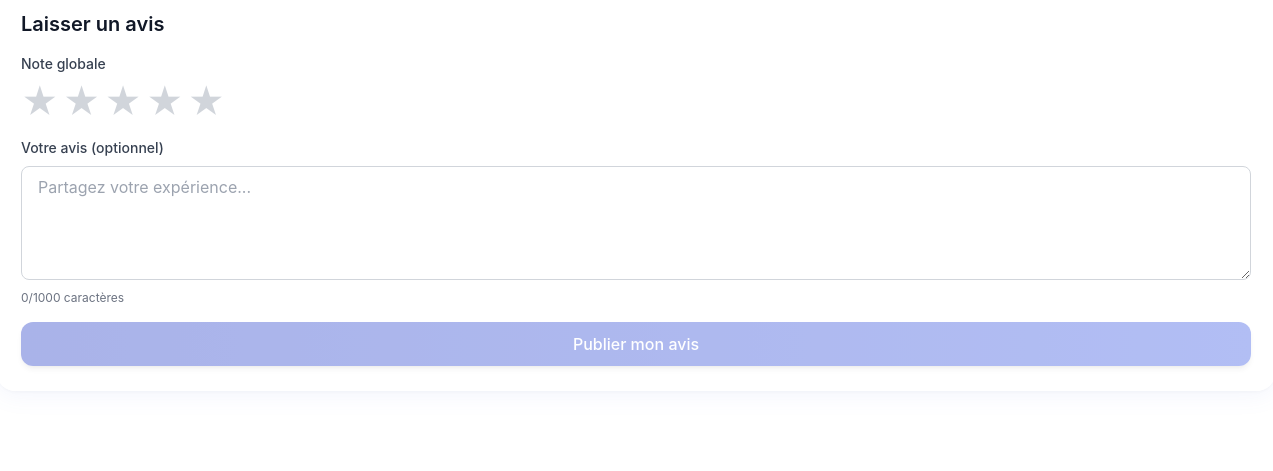
Test: ReviewForm › shows an error message when the submission fails
Click the 3rd button "★" at coordinates (123, 102), box [104, 82, 142, 122]
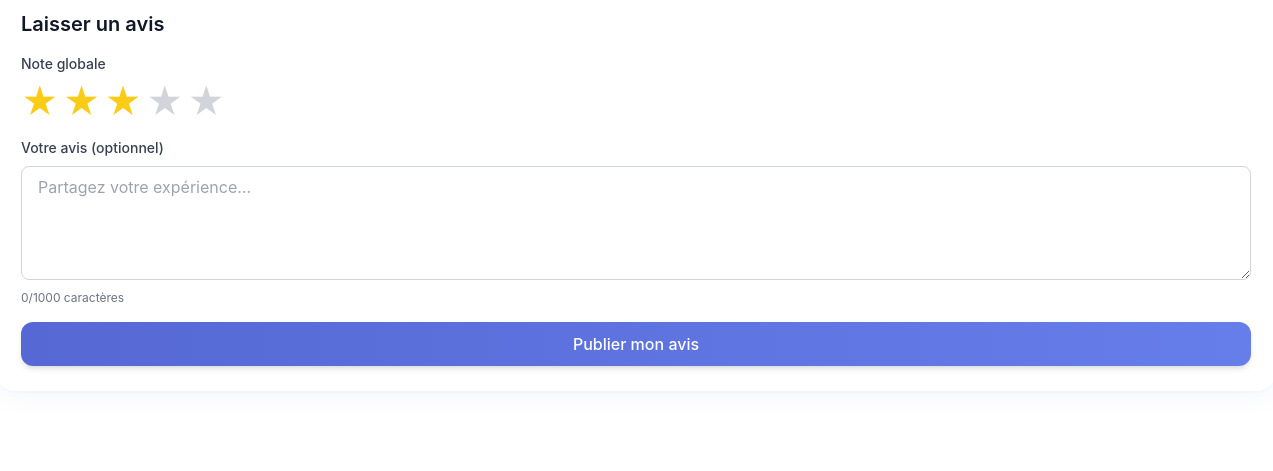
Click the button "Publier mon avis" at coordinates (636, 344), box [21, 322, 1251, 366]
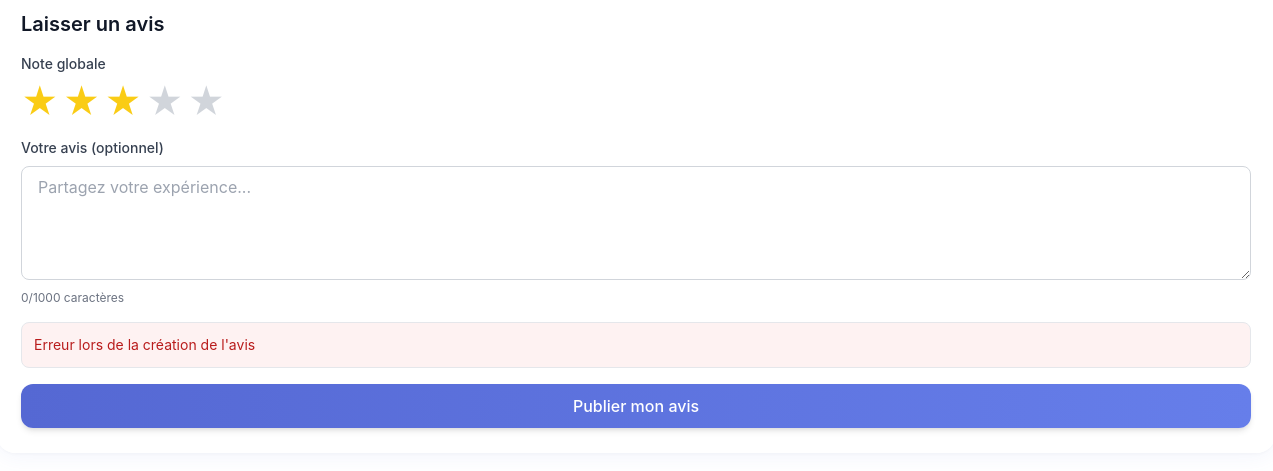
Now the text "Erreur lors de la création de l'avis" is shown, box [21, 322, 1251, 368]
